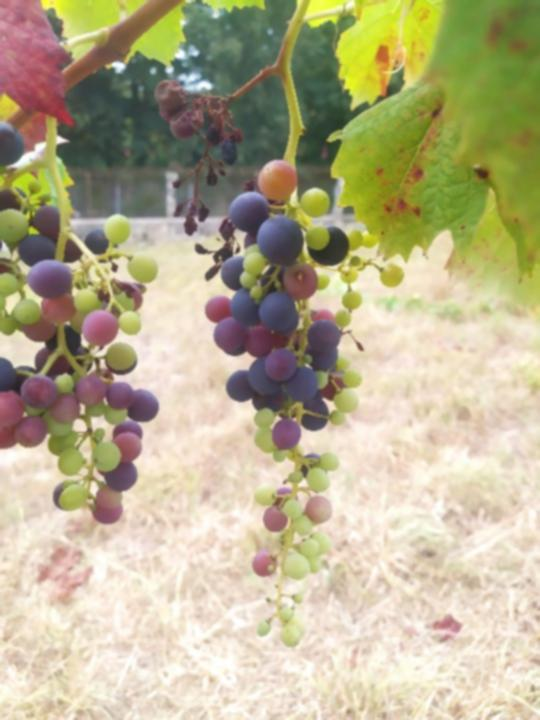grape: (189, 159, 402, 650), (2, 114, 161, 525), (153, 68, 247, 237)
